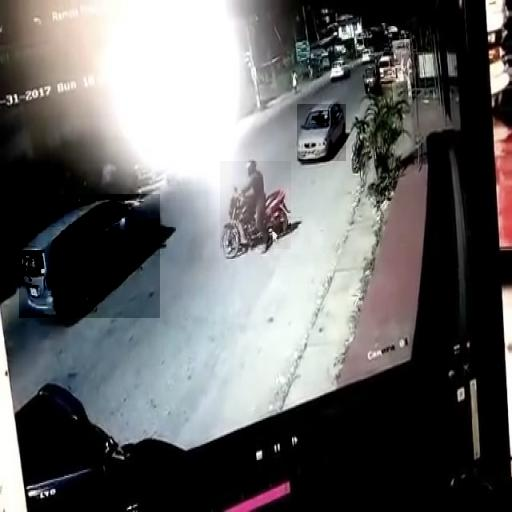小汽车: (19, 194, 160, 318), (297, 104, 346, 161)
自行车: (220, 162, 291, 250)
